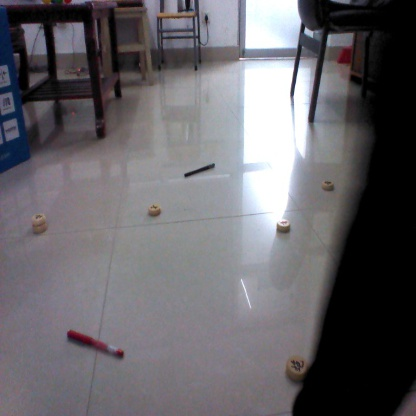chess: (285, 357, 308, 379), (31, 210, 50, 233), (270, 217, 292, 233), (145, 205, 166, 219), (319, 177, 334, 190)
pen: (67, 328, 124, 359), (183, 159, 218, 179)
